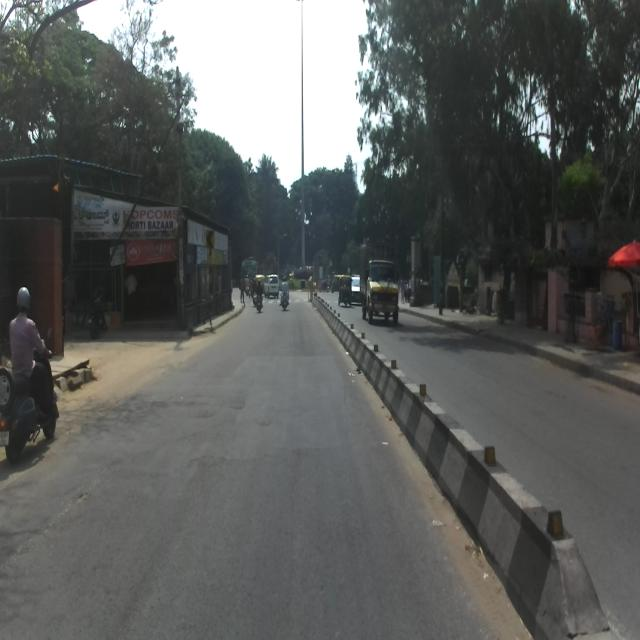electric pole ahead at: (166, 68, 197, 337)
motorcycle ahead at: (1, 346, 61, 468)
